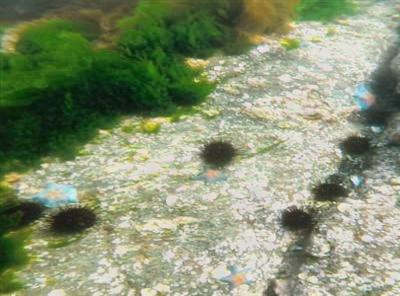urchin: (48, 201, 100, 233), (198, 137, 237, 166), (8, 199, 47, 223), (280, 205, 314, 232), (343, 132, 374, 159), (369, 64, 400, 90), (313, 180, 351, 201), (363, 106, 391, 129), (375, 85, 400, 110)
